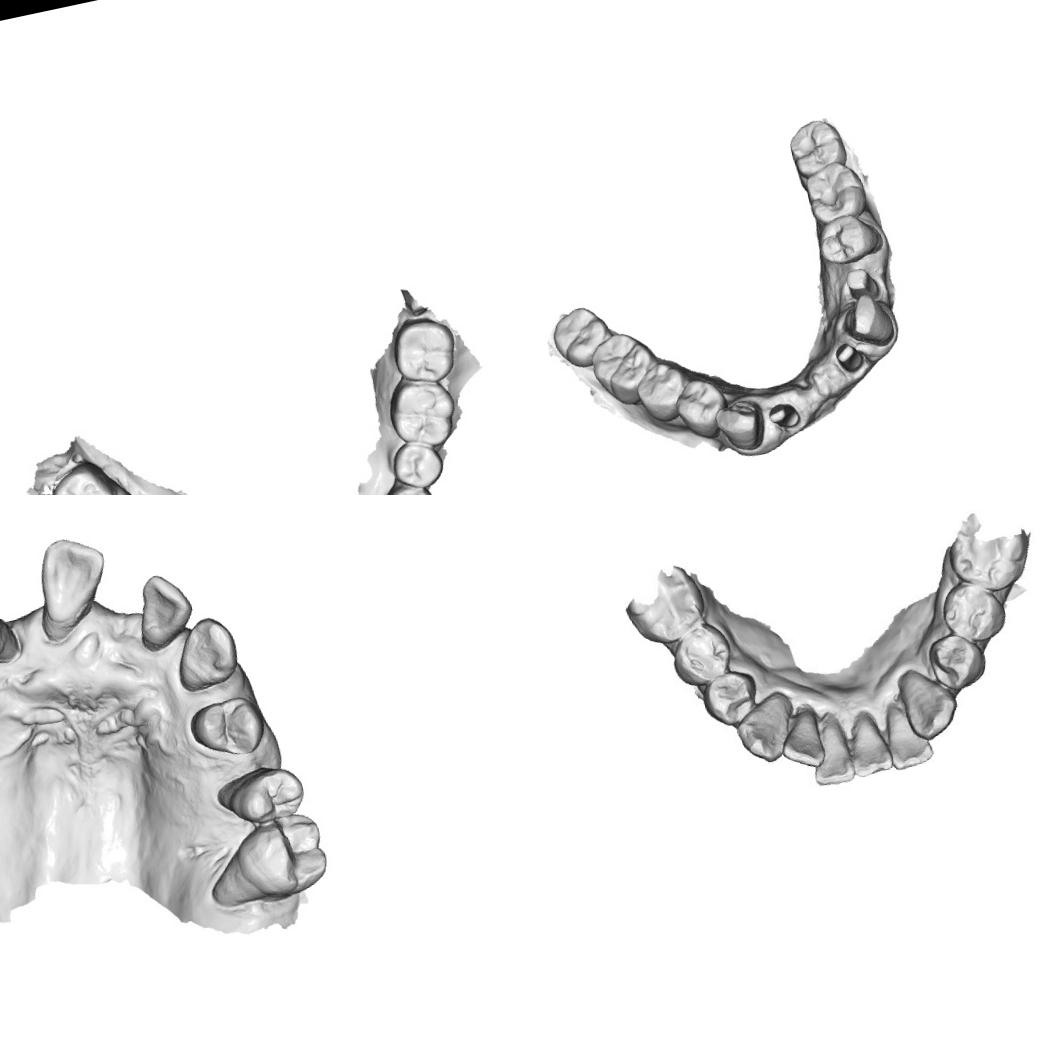abutment: (842, 264, 882, 306), (832, 339, 867, 376), (766, 398, 802, 433)
canine: (167, 610, 244, 696), (895, 663, 965, 745), (730, 691, 798, 769), (842, 289, 898, 351), (711, 396, 768, 456)
incisor: (28, 528, 118, 627), (128, 568, 198, 646), (879, 698, 936, 772), (803, 714, 859, 788), (774, 704, 825, 778), (842, 708, 891, 783)
molar: (230, 808, 336, 908), (619, 565, 708, 652), (382, 372, 464, 456), (585, 326, 664, 412), (944, 510, 1030, 588), (385, 310, 463, 392), (798, 156, 870, 226), (548, 301, 616, 374), (784, 114, 850, 180), (43, 454, 125, 495)
premolar: (184, 688, 270, 766), (222, 761, 310, 832), (664, 617, 736, 688), (937, 575, 1006, 649), (696, 662, 764, 732), (670, 371, 734, 445), (921, 628, 989, 696), (630, 357, 696, 427), (814, 210, 882, 270), (386, 436, 449, 495), (377, 474, 439, 495)
